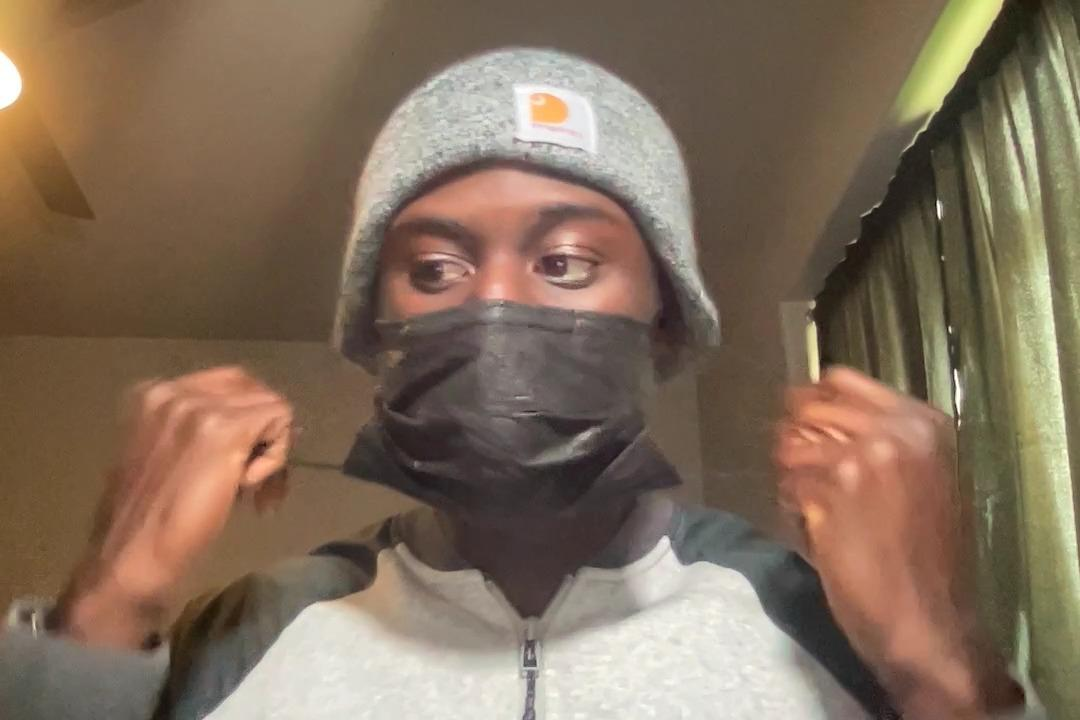face: (344, 123, 675, 529)
